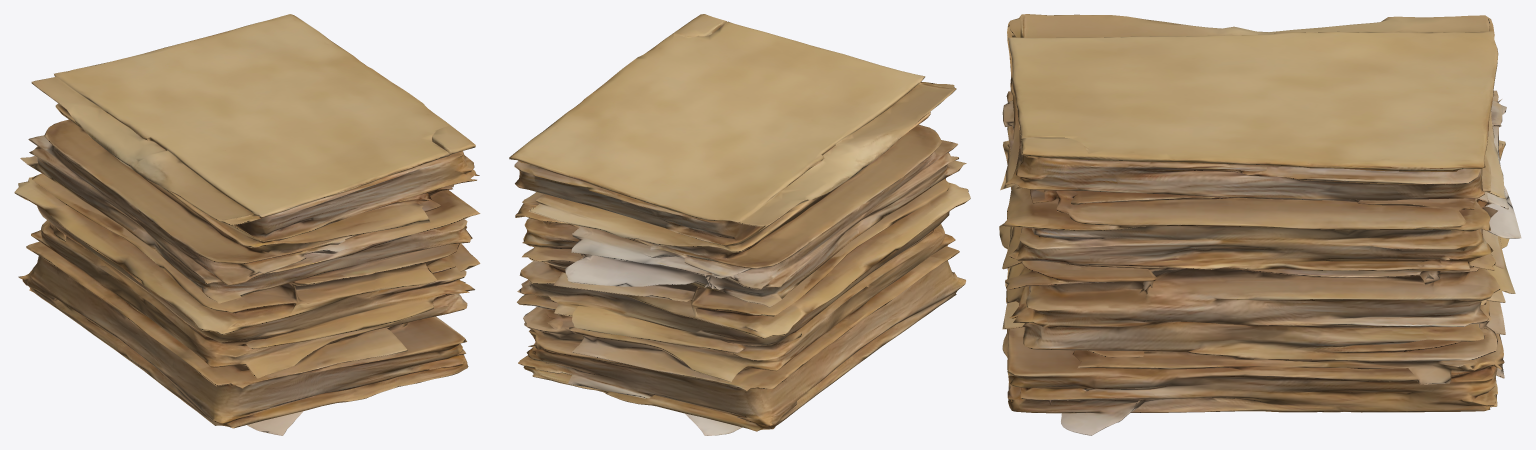
The model's file is file-folders.glb.
3 views of the same model, side by side, from view 1: azimuth 30°, elevation 25°; view 2: azimuth 150°, elevation 25°; view 3: azimuth 270°, elevation 25° (orthographic). The views are drawn at different scales.
Parts seen in each view (by area): view 1: tripo_node_01a217e8-9ee4-727c-9a7f-fcb18f7d2cd0; view 2: tripo_node_01a217e8-9ee4-727c-9a7f-fcb18f7d2cd0; view 3: tripo_node_01a217e8-9ee4-727c-9a7f-fcb18f7d2cd0.
Part boxes in pixels (<box>): tripo_node_01a217e8-9ee4-727c-9a7f-fcb18f7d2cd0: <box>14,14,480,435</box>; tripo_node_01a217e8-9ee4-727c-9a7f-fcb18f7d2cd0: <box>509,14,970,435</box>; tripo_node_01a217e8-9ee4-727c-9a7f-fcb18f7d2cd0: <box>999,14,1521,435</box>.
Bounding box in the file's own units: 0.7687 × 0.6178 × 1.
1 material, 1 textured.
